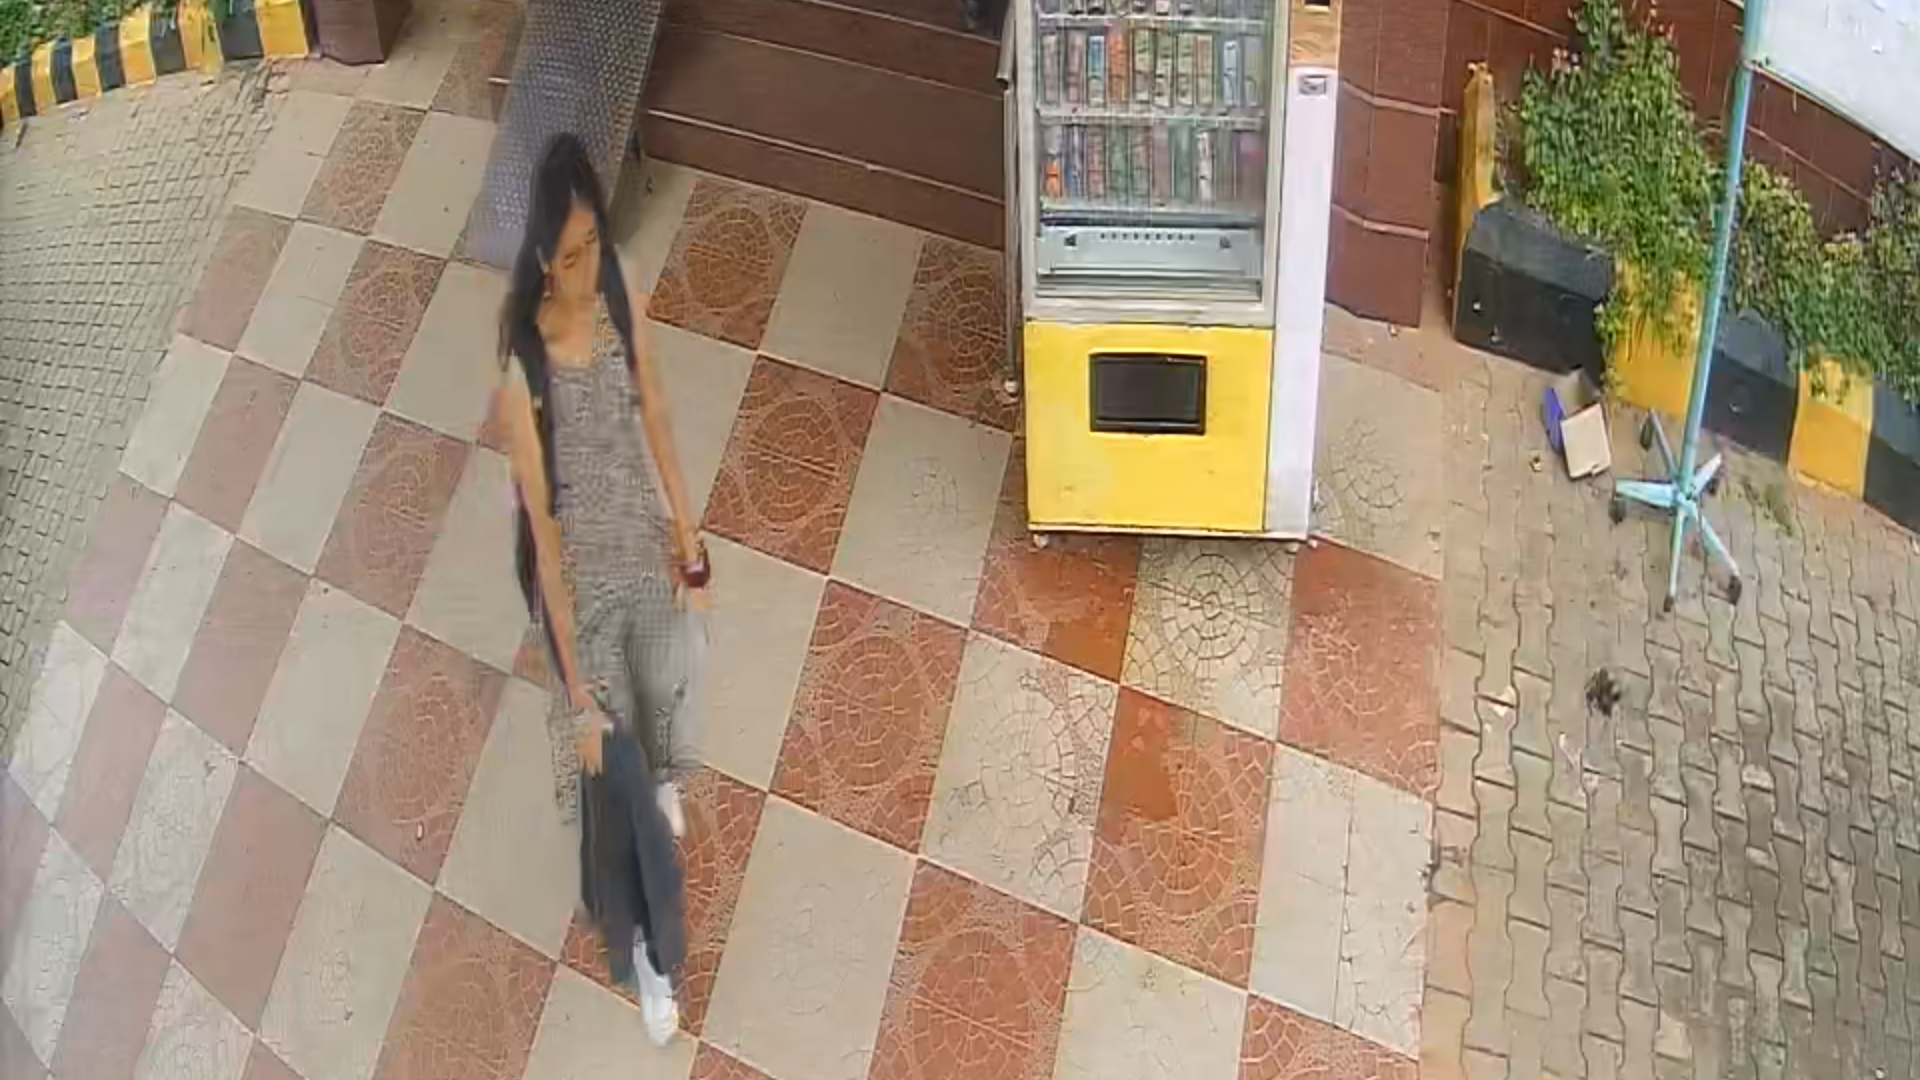intruder: (504, 124, 756, 1034)
